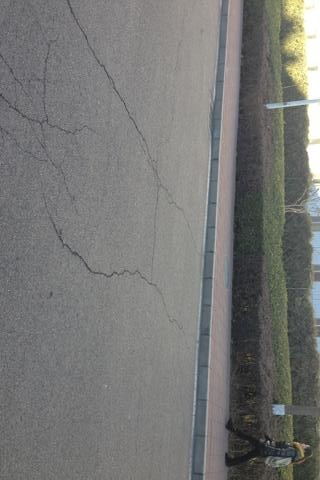A: (1, 33, 194, 334)
